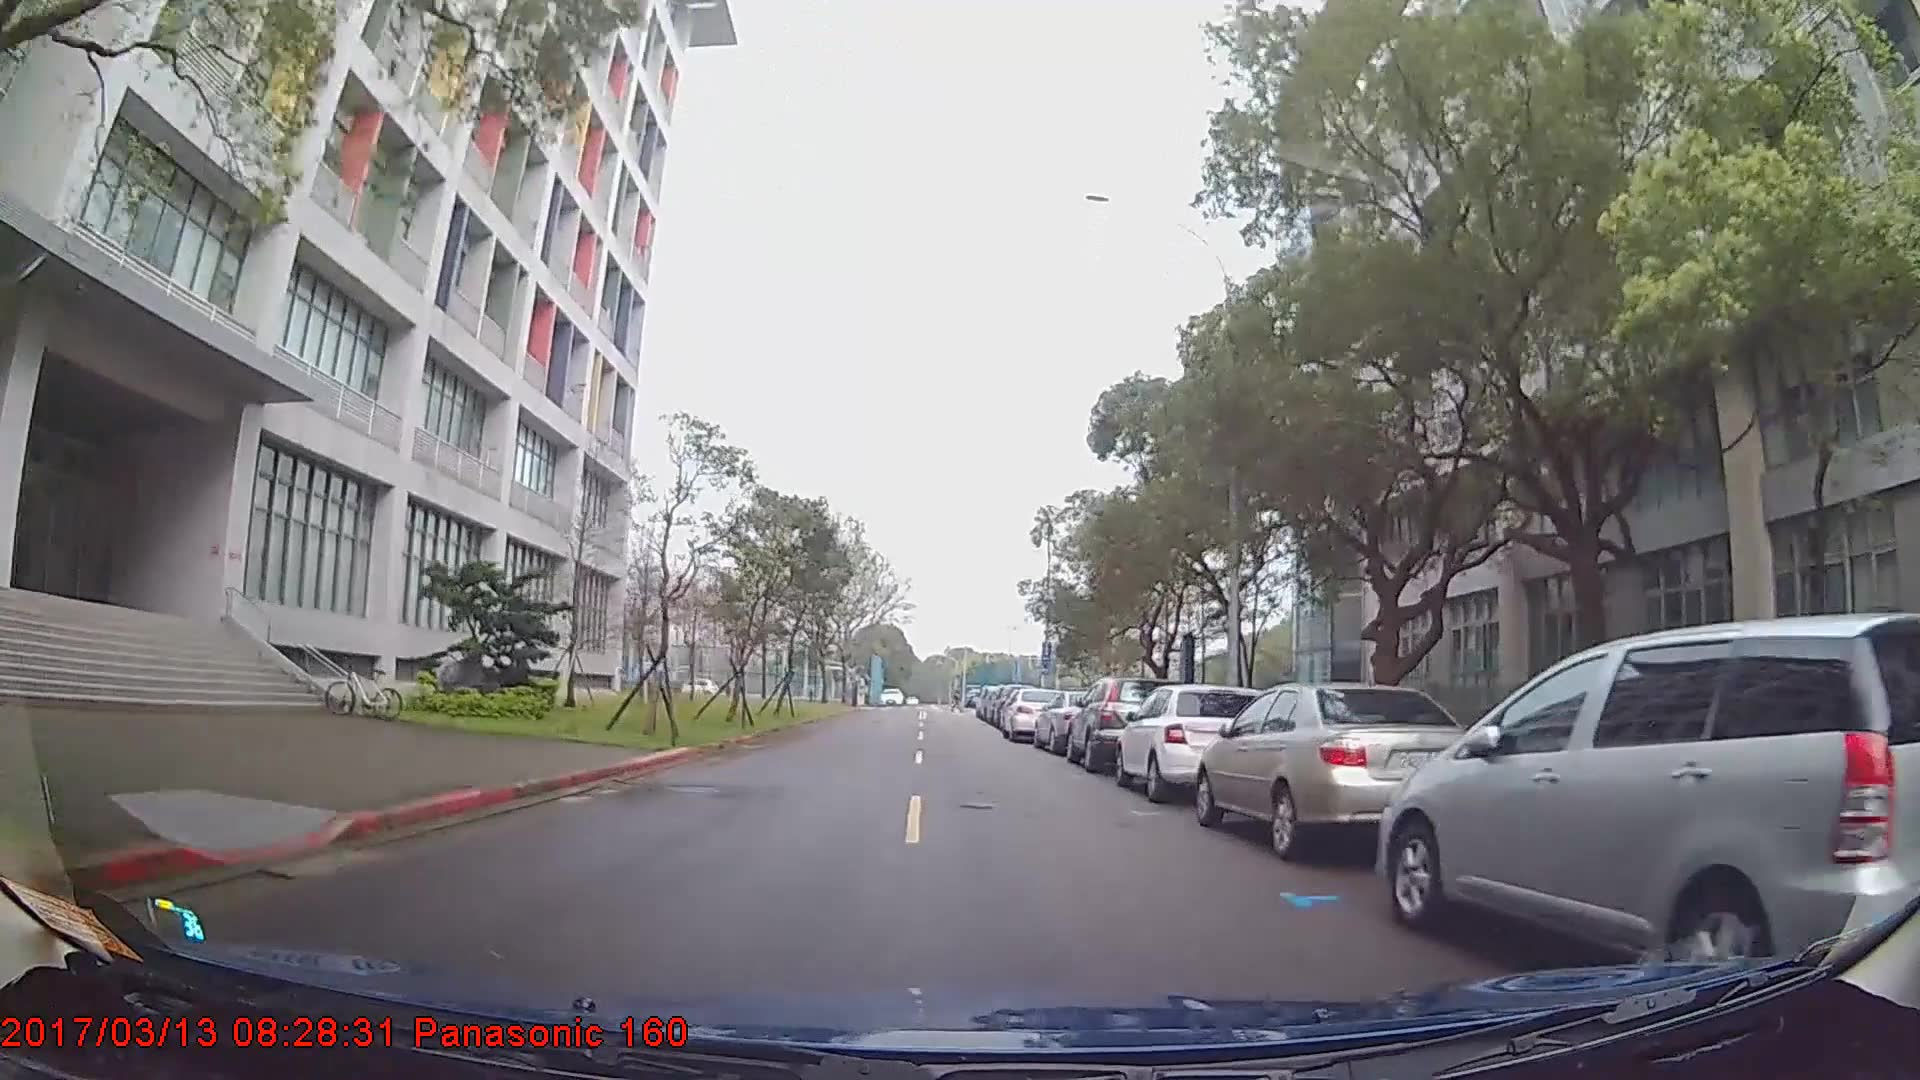vehicle: (1375, 607, 1920, 1007), (1199, 679, 1489, 858), (1116, 683, 1266, 800), (1063, 676, 1178, 771), (1033, 686, 1118, 753), (998, 684, 1063, 742)
